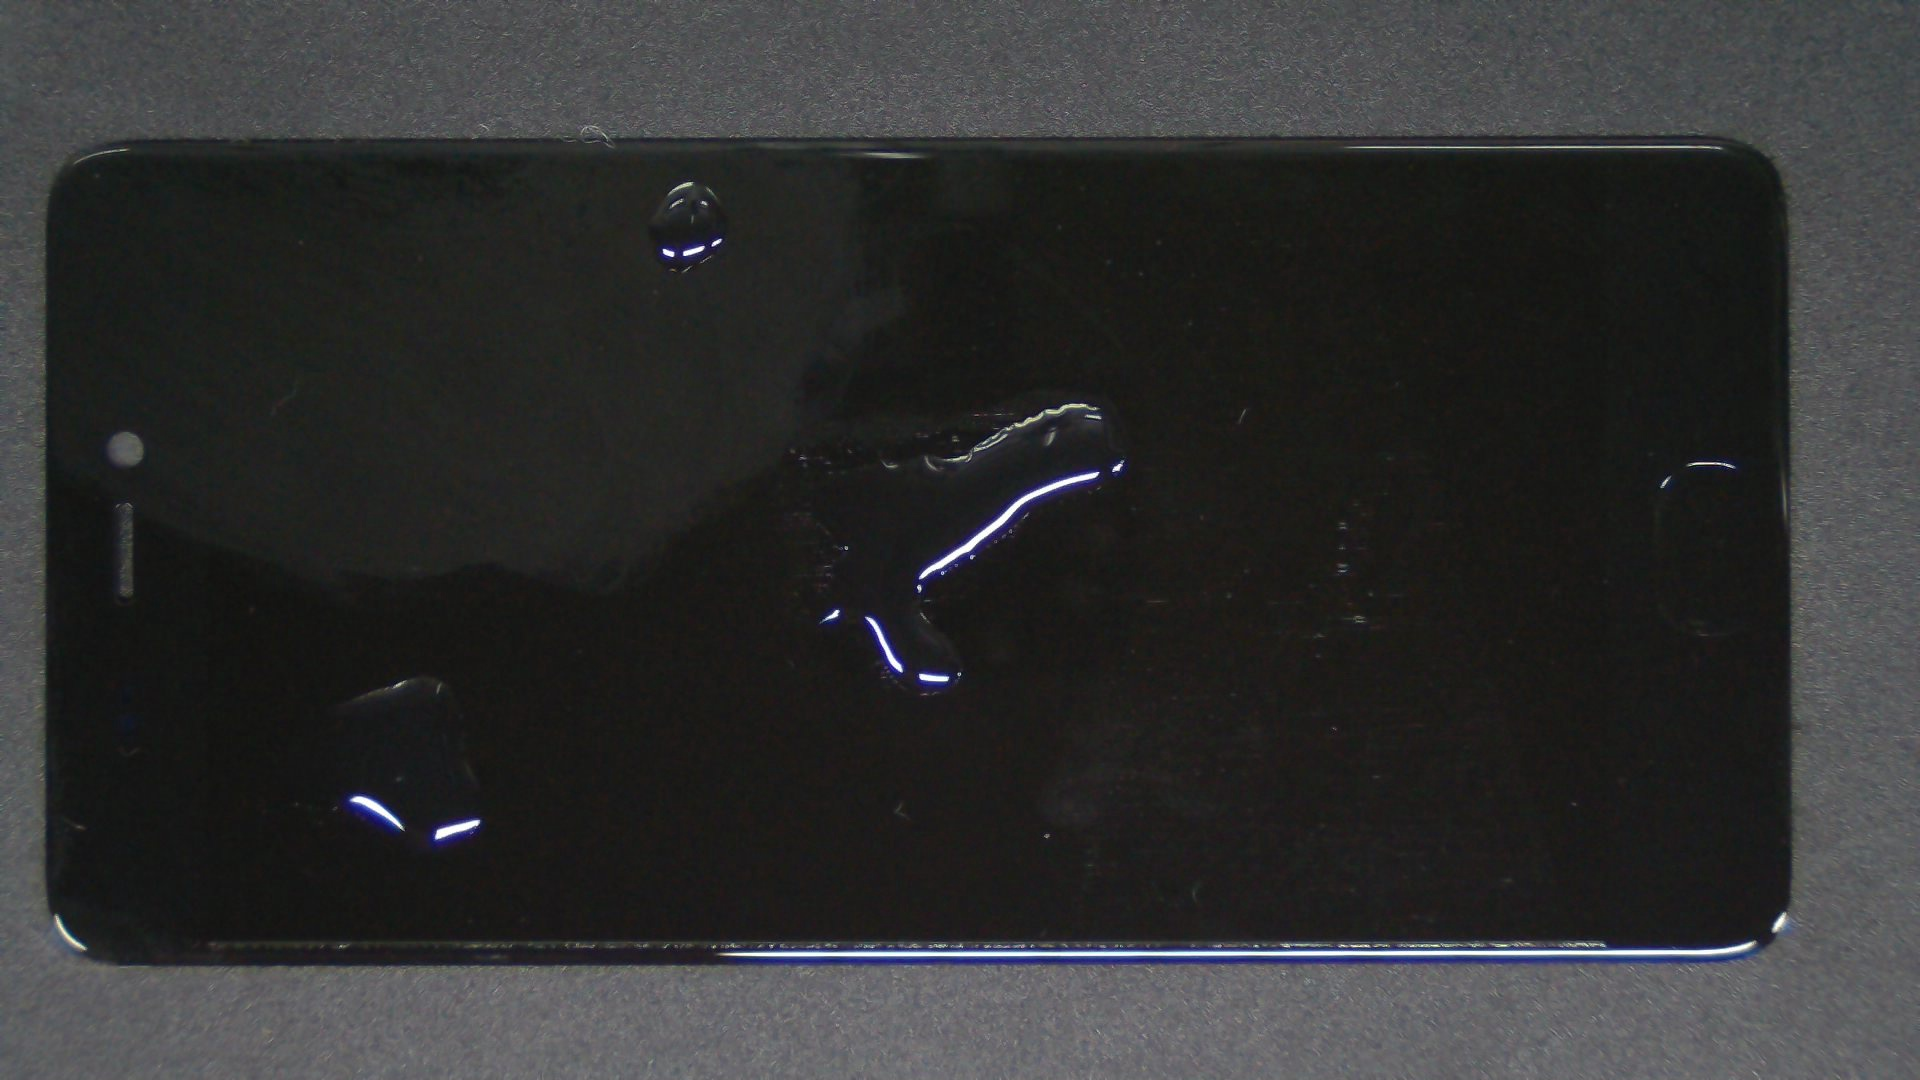oil: (541, 200, 1619, 603), (212, 338, 634, 1015), (345, 90, 1034, 272)
